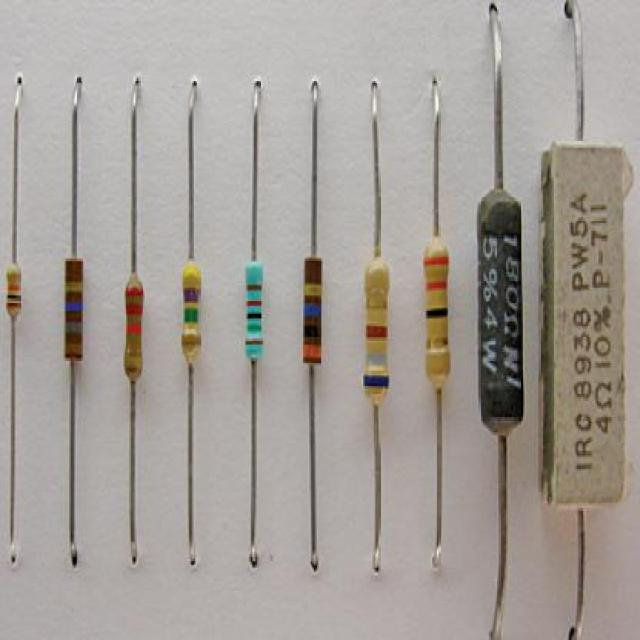Capacitor: (540, 140, 634, 512), (477, 188, 525, 437), (360, 242, 389, 411), (423, 235, 452, 395), (297, 255, 325, 371), (123, 257, 145, 385), (180, 258, 202, 369), (63, 257, 85, 366), (246, 258, 266, 366), (5, 265, 23, 320)
